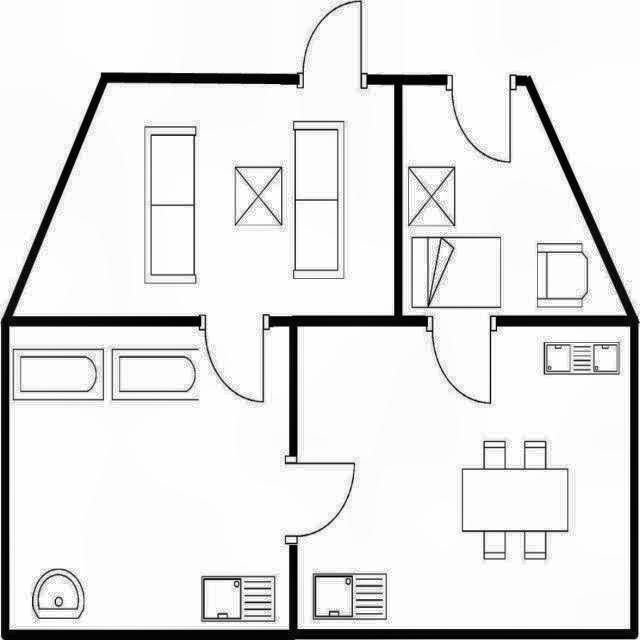room: (298, 327, 629, 629), (13, 83, 394, 316), (9, 327, 290, 629), (403, 84, 626, 316)
